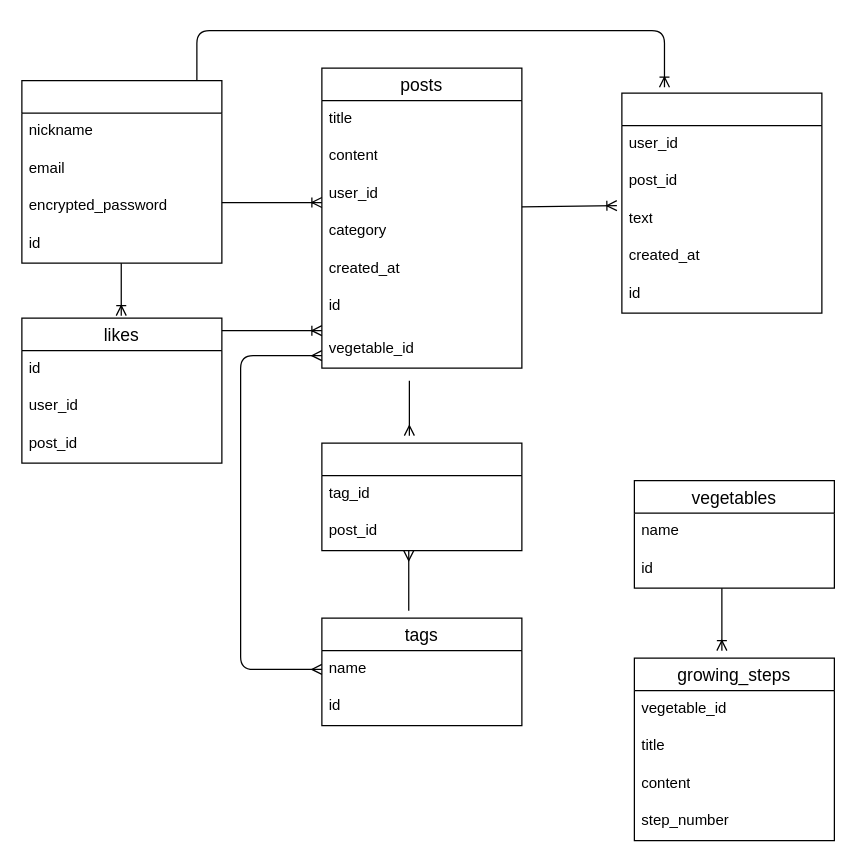
Image size: 856x866. Some labels were removed from this diagram. Each missing label, with the box of its shape:
comments: (621, 92, 822, 313)
post_tags: (321, 442, 522, 551)
users: (21, 79, 222, 263)
